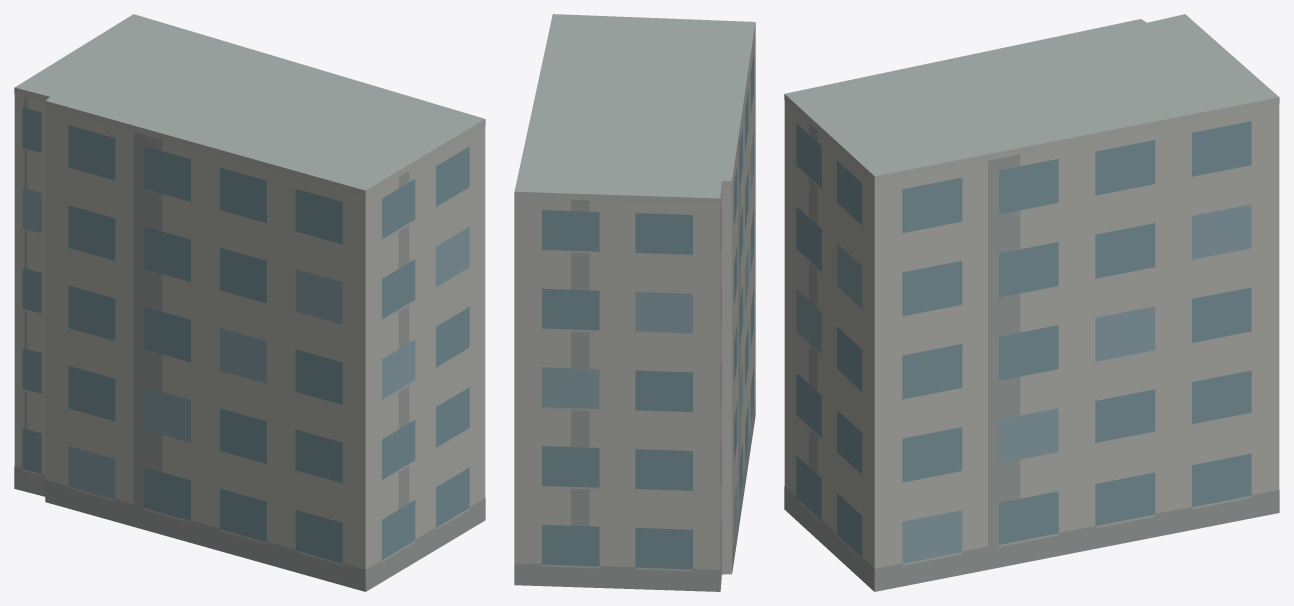
File: survey-upis-33012202.glb
The picture shows the model from 3 angles, left to right: view 1: azimuth 30°, elevation 25°; view 2: azimuth 150°, elevation 25°; view 3: azimuth 270°, elevation 25°; orthographic projection. The views are drawn at different scales.
Parts seen in each view (by area): view 1: survey-upis-33012202.tmp; view 2: survey-upis-33012202.tmp; view 3: survey-upis-33012202.tmp.
Part boxes in pixels (bbox=[...]): survey-upis-33012202.tmp: bbox=[14, 14, 485, 591]; survey-upis-33012202.tmp: bbox=[514, 14, 755, 591]; survey-upis-33012202.tmp: bbox=[784, 14, 1279, 591].
Bounding box in the file's own units: 12.94 × 15.45 × 16.69.
